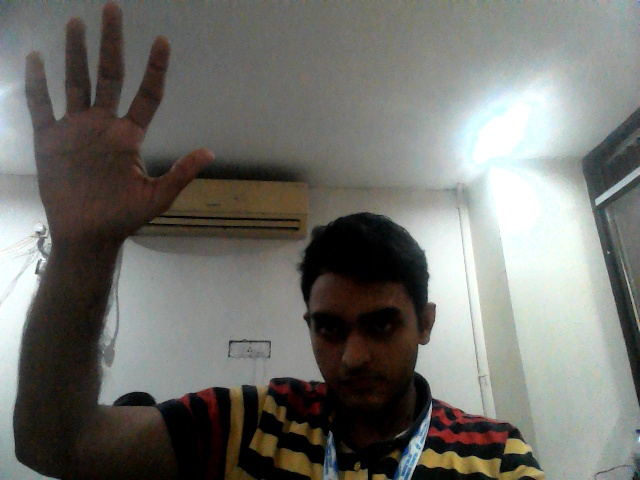palm: (19, 5, 218, 243)
